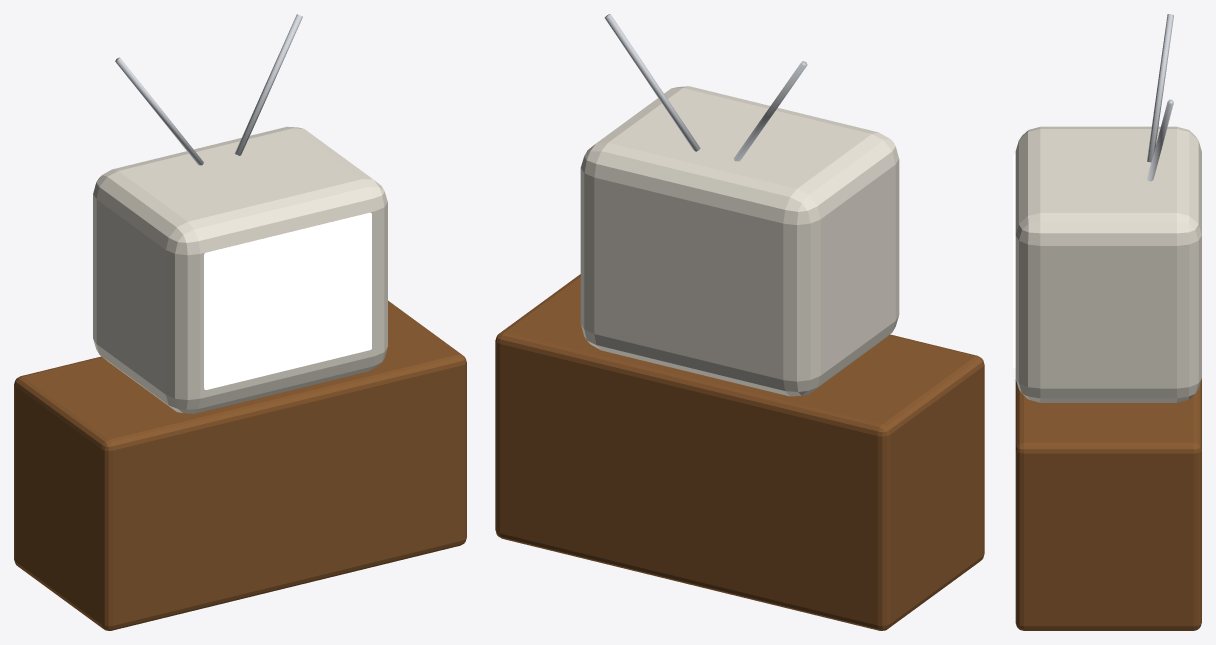
File: Furn_TV_Stand.fbx
3 views of the same model, side by side, from view 1: azimuth 30°, elevation 25°; view 2: azimuth 150°, elevation 25°; view 3: azimuth 270°, elevation 25° (orthographic). The views are drawn at different scales.
Visible parts, largest first — view 1: Furn_TV_Stand; view 2: Furn_TV_Stand; view 3: Furn_TV_Stand.
Part boxes in pixels (x1=…): Furn_TV_Stand: x1=14, y1=14, x2=466, y2=630; Furn_TV_Stand: x1=495, y1=14, x2=984, y2=630; Furn_TV_Stand: x1=1013, y1=14, x2=1201, y2=630.
Size of the model in its own units: 1 by 1.3 by 0.456.
